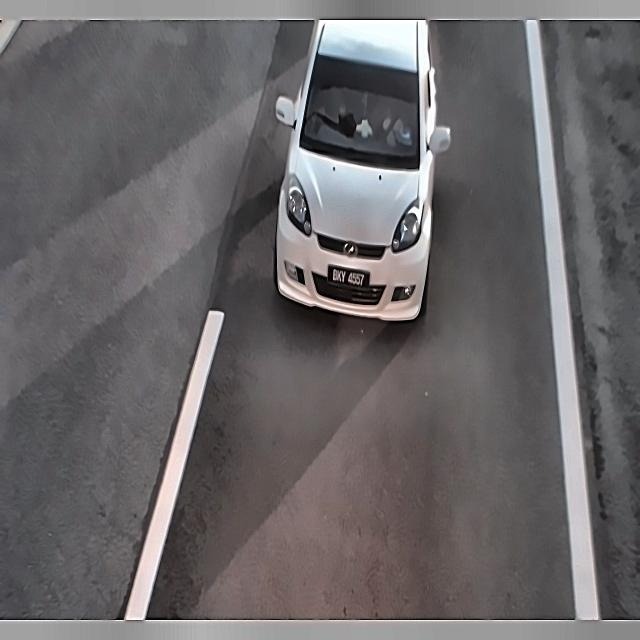car: (326, 260, 372, 293)
